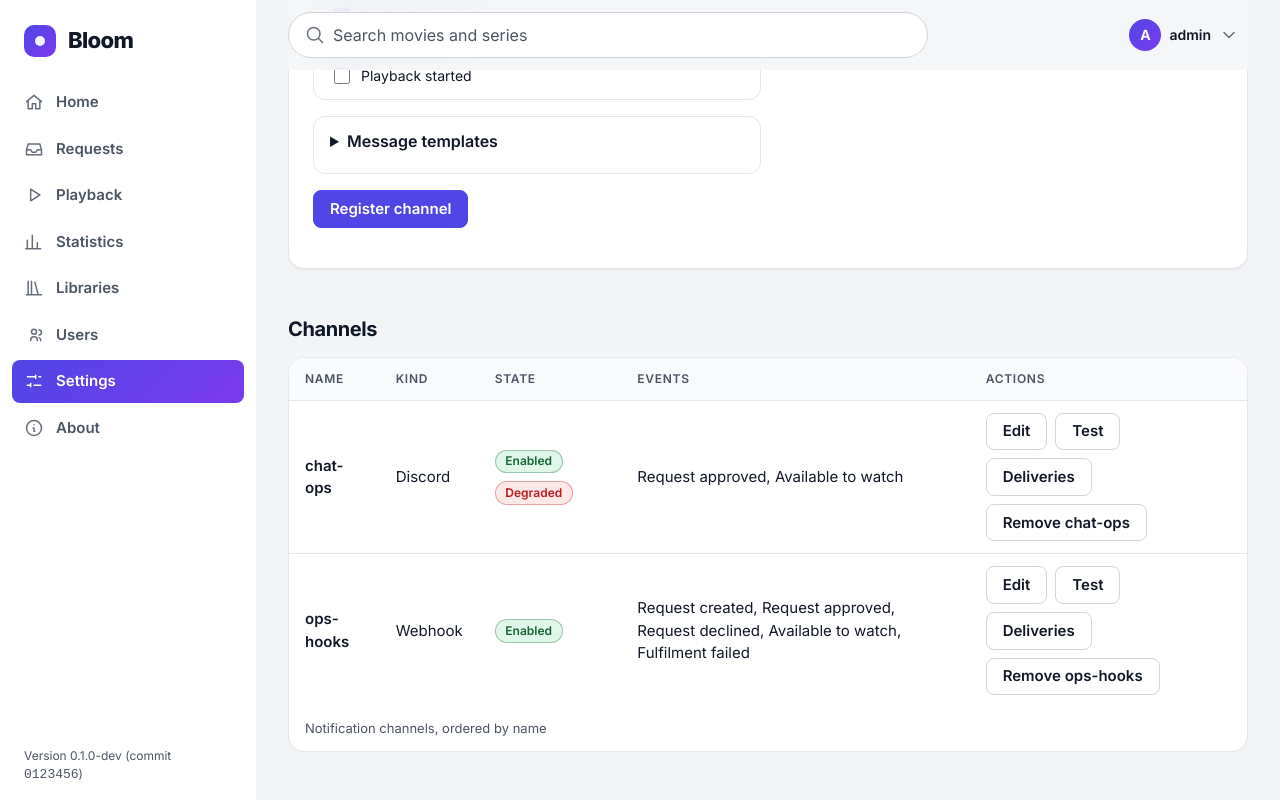
reports a test send and its failure
(page scrolled)
Click the button named "Test ops-hooks" at (1088, 585), box [1055,566,1120,604]
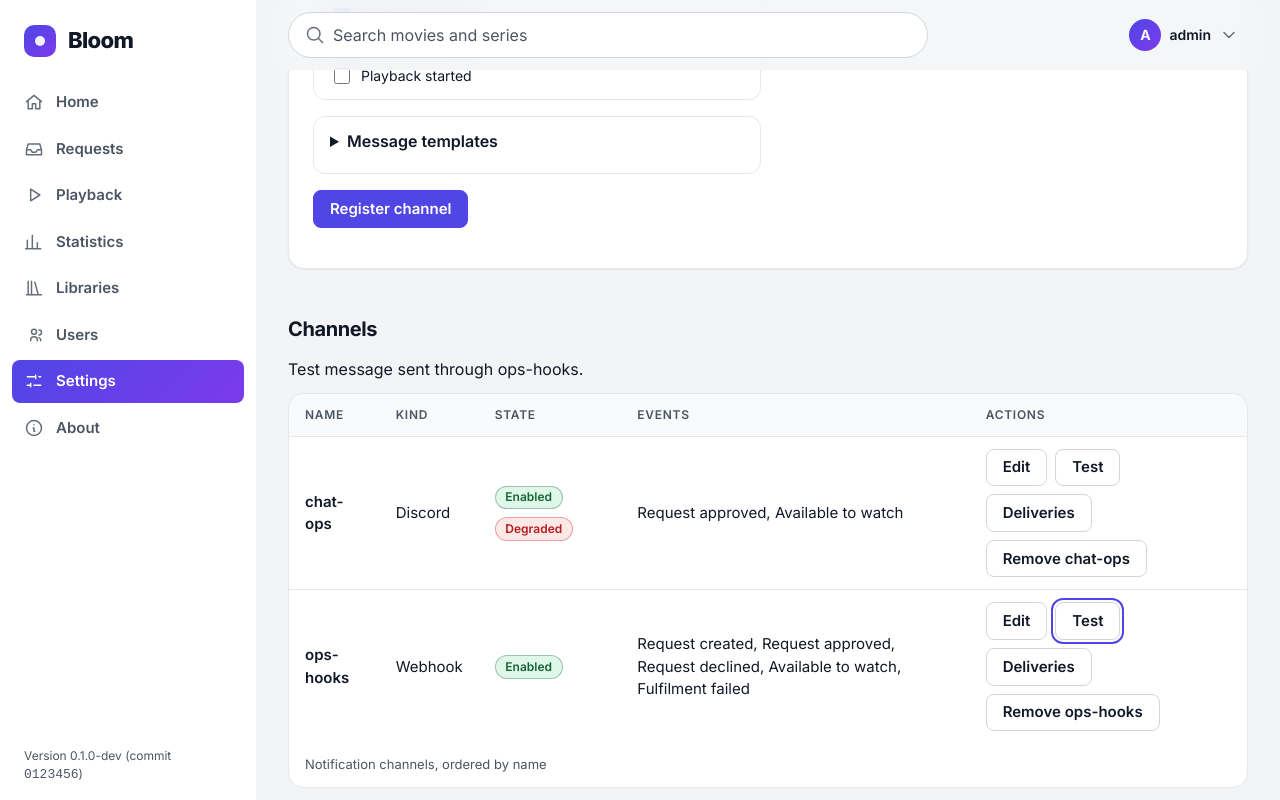
Expected: the text "Test message sent through ops-hooks." is shown, [288,359,583,379]
Click the button named "Test chat-ops" at (1088, 468), box [1055,449,1120,486]
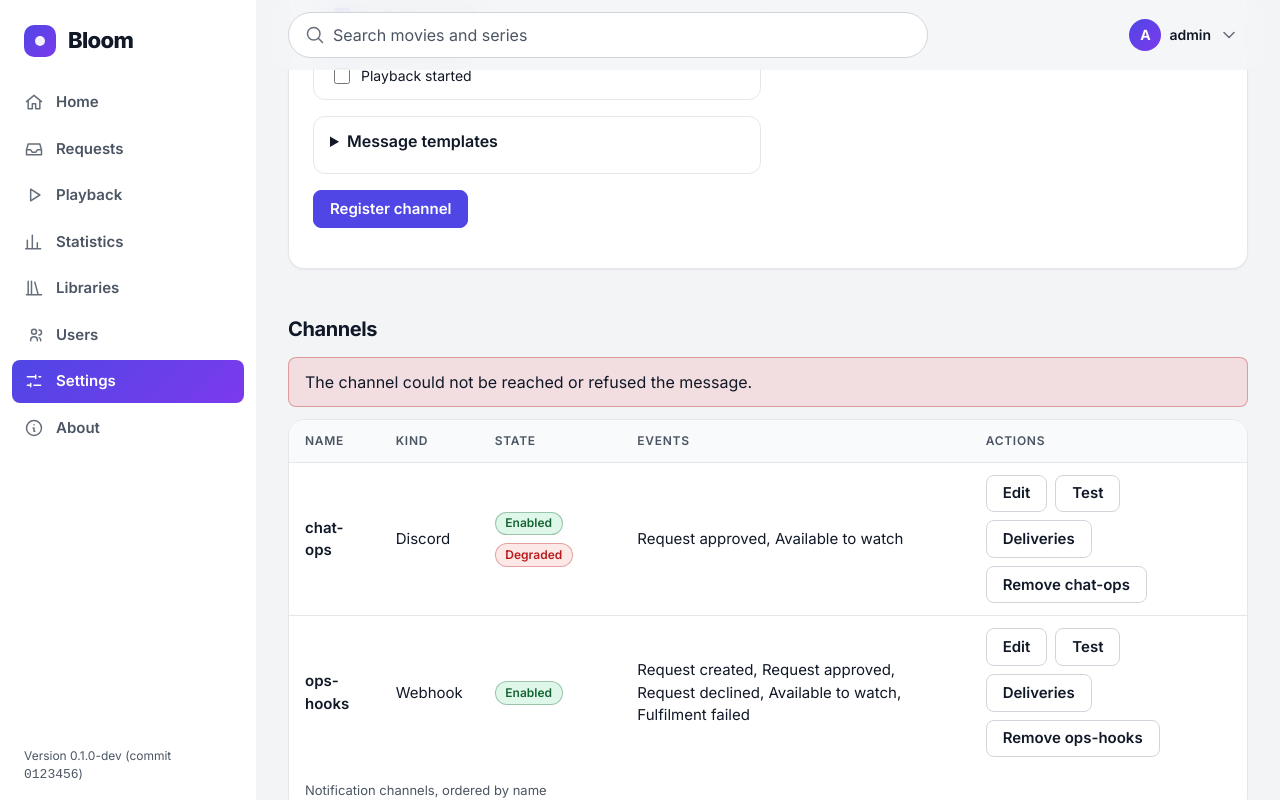
Expected: the message reads "The channel could not be reached or refused the message.", [305,372,752,392]
